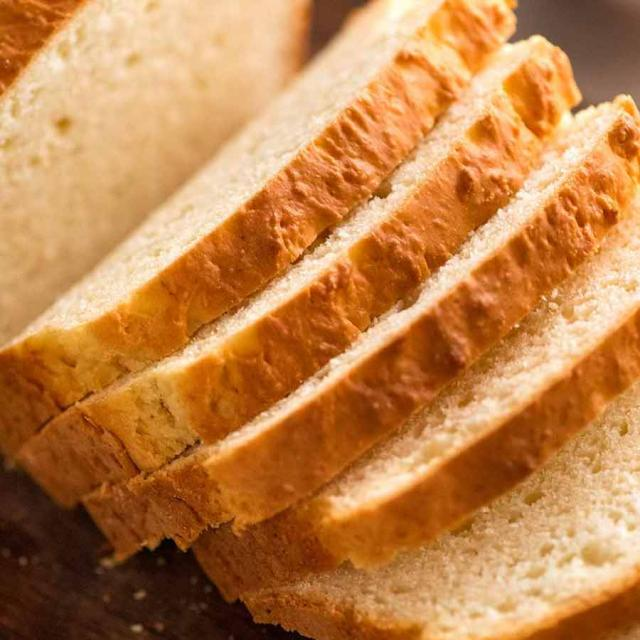Bread: (0, 0, 514, 454), (78, 40, 579, 470), (204, 104, 640, 525), (210, 189, 640, 579), (0, 0, 310, 344), (245, 381, 640, 640)
